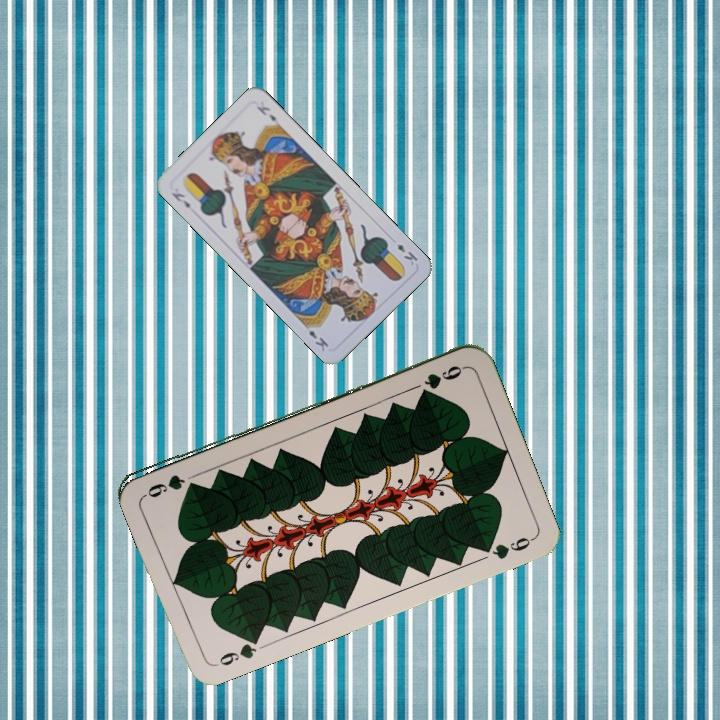EK: (393, 239, 420, 268), (167, 188, 193, 211)
G9: (209, 632, 262, 670), (420, 361, 468, 392)
